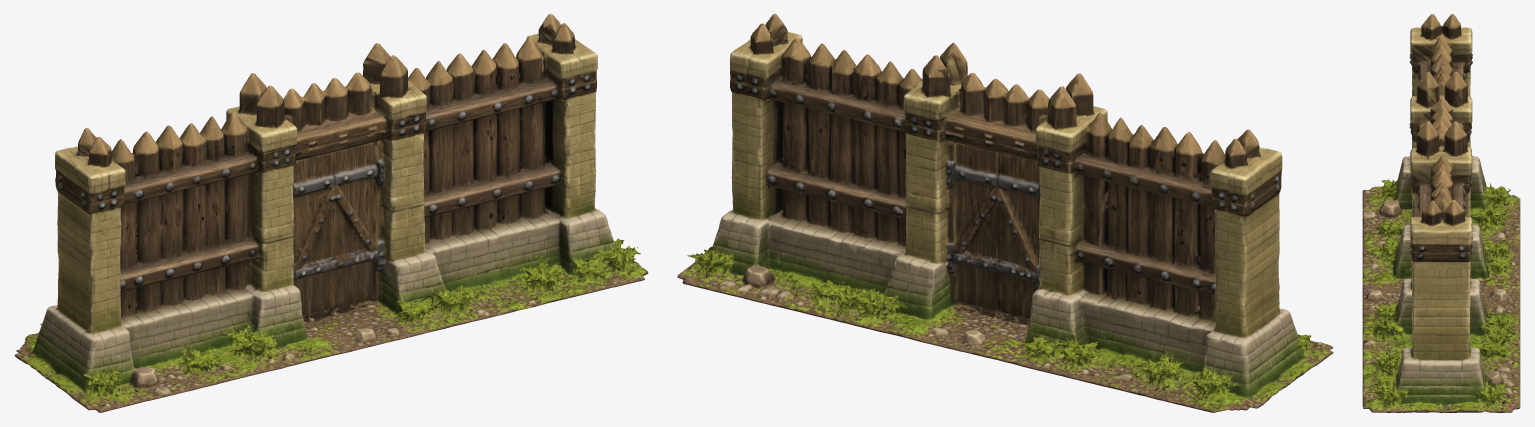
The model's file is SM_Empalizada.fbx.
3 renders of one model, left to right at view 1: azimuth 30°, elevation 25°; view 2: azimuth 150°, elevation 25°; view 3: azimuth 270°, elevation 25°, orthographic. The views are drawn at different scales.
Visible parts, largest first — view 1: SM_Empalizada; view 2: SM_Empalizada; view 3: SM_Empalizada.
Part boxes in pixels (bbox=[...]): SM_Empalizada: bbox=[14, 14, 648, 412]; SM_Empalizada: bbox=[677, 14, 1333, 412]; SM_Empalizada: bbox=[1362, 14, 1520, 412].
Bounding box in the file's own units: 99.78 × 42.25 × 29.55.
1 material, 1 textured.
